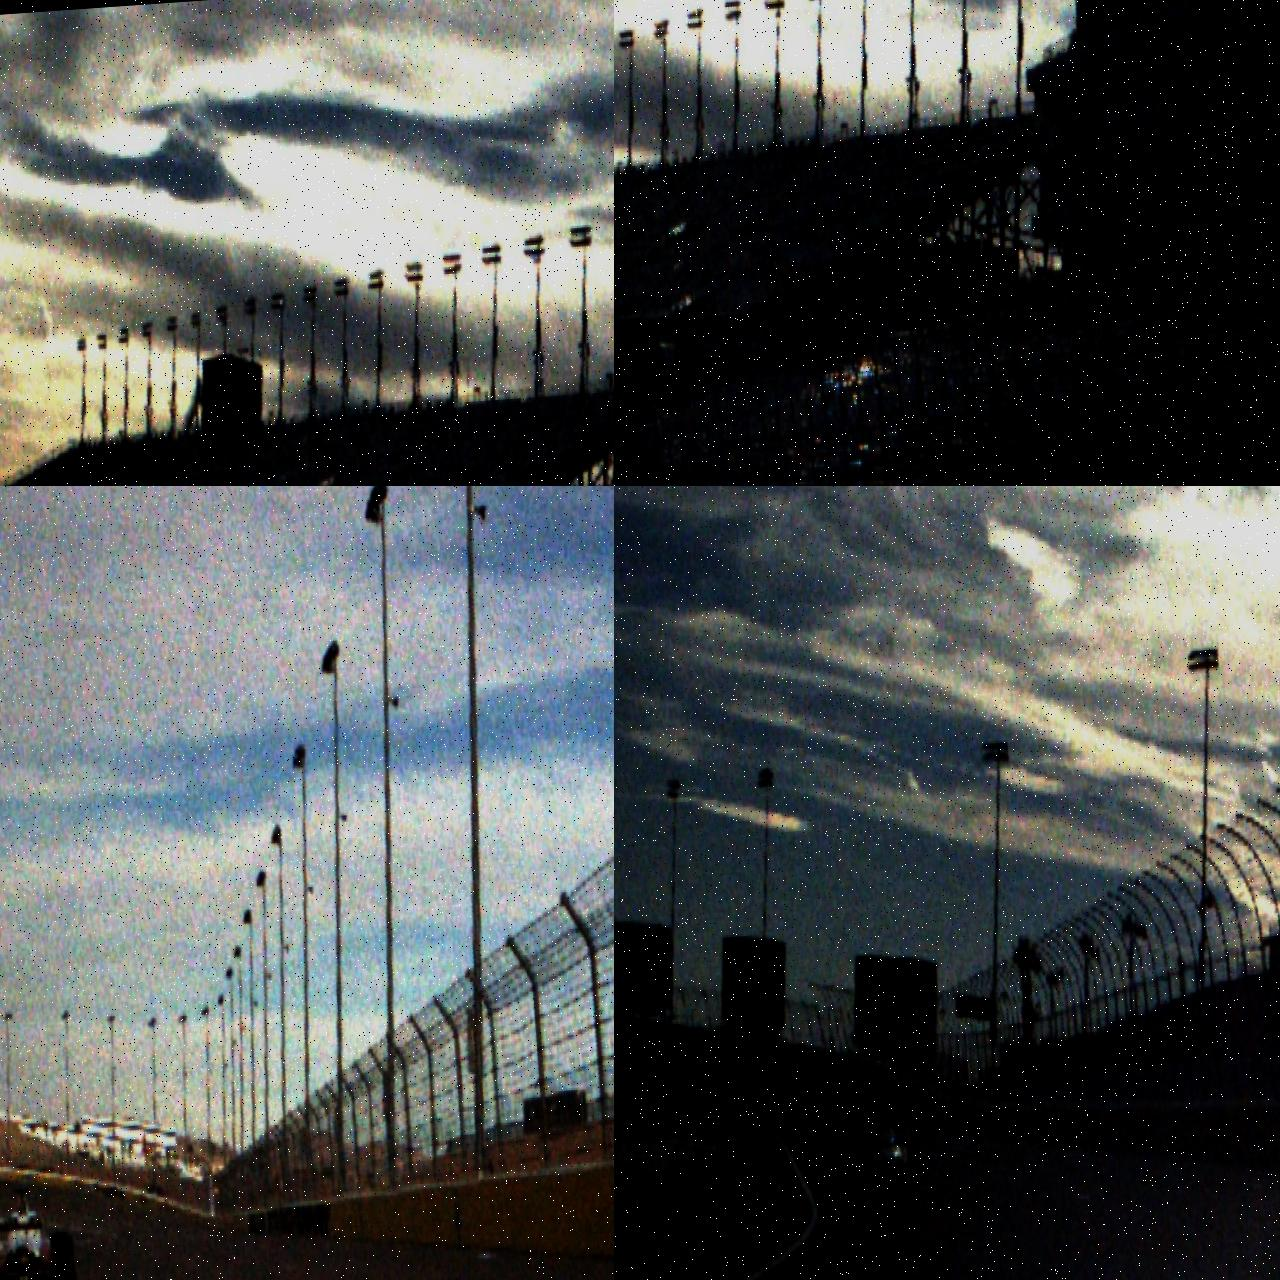AV: (0, 1182, 79, 1280), (860, 1118, 922, 1189)
Wheel: (50, 1231, 74, 1280), (863, 1152, 878, 1187), (908, 1146, 922, 1184)
